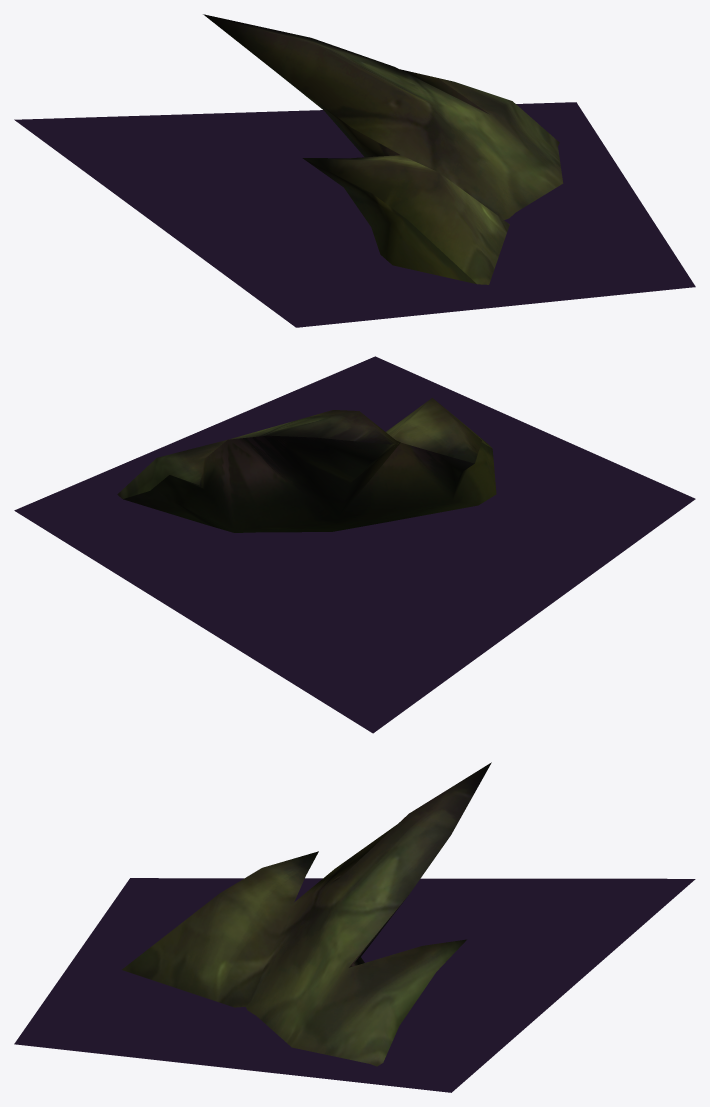
Rendered from Map04Stone_A.FBX.
The picture shows the model from 3 angles, top to bottom: view 1: azimuth 30°, elevation 25°; view 2: azimuth 150°, elevation 25°; view 3: azimuth 270°, elevation 25°; orthographic projection. The views are drawn at different scales.
Visible parts, largest first — view 1: Map04StoneShadows_A, Map04Stone_A; view 2: Map04StoneShadows_A, Map04Stone_A; view 3: Map04StoneShadows_A, Map04Stone_A.
Part boxes in pixels (x1,y1,x2,y2): Map04StoneShadows_A: [14, 102, 695, 327]; Map04Stone_A: [203, 14, 563, 284]; Map04StoneShadows_A: [14, 356, 695, 733]; Map04Stone_A: [117, 398, 496, 532]; Map04StoneShadows_A: [14, 878, 695, 1092]; Map04Stone_A: [122, 762, 491, 1066].
Bounding box in the file's own units: 247 × 91.53 × 331.
